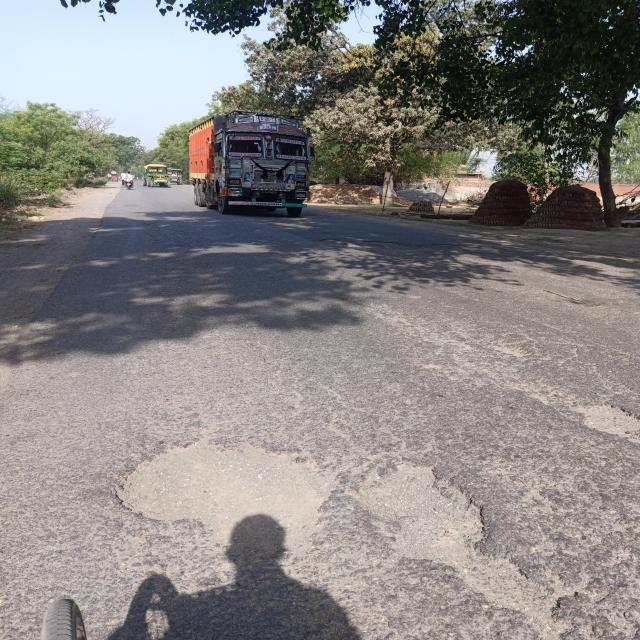truck_front: (182, 106, 323, 216)
